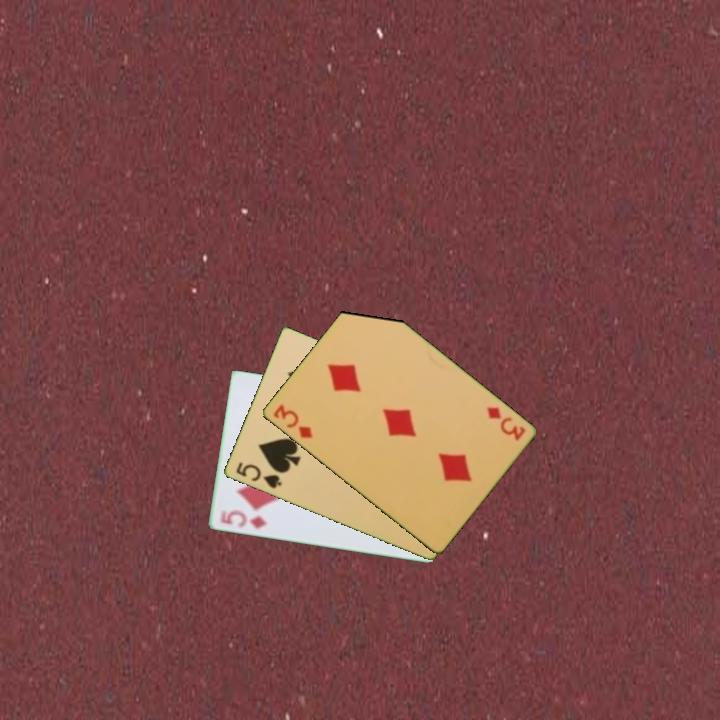3d: (269, 401, 315, 442), (482, 403, 528, 444)
5d: (215, 507, 270, 531)
5s: (232, 458, 284, 492)
